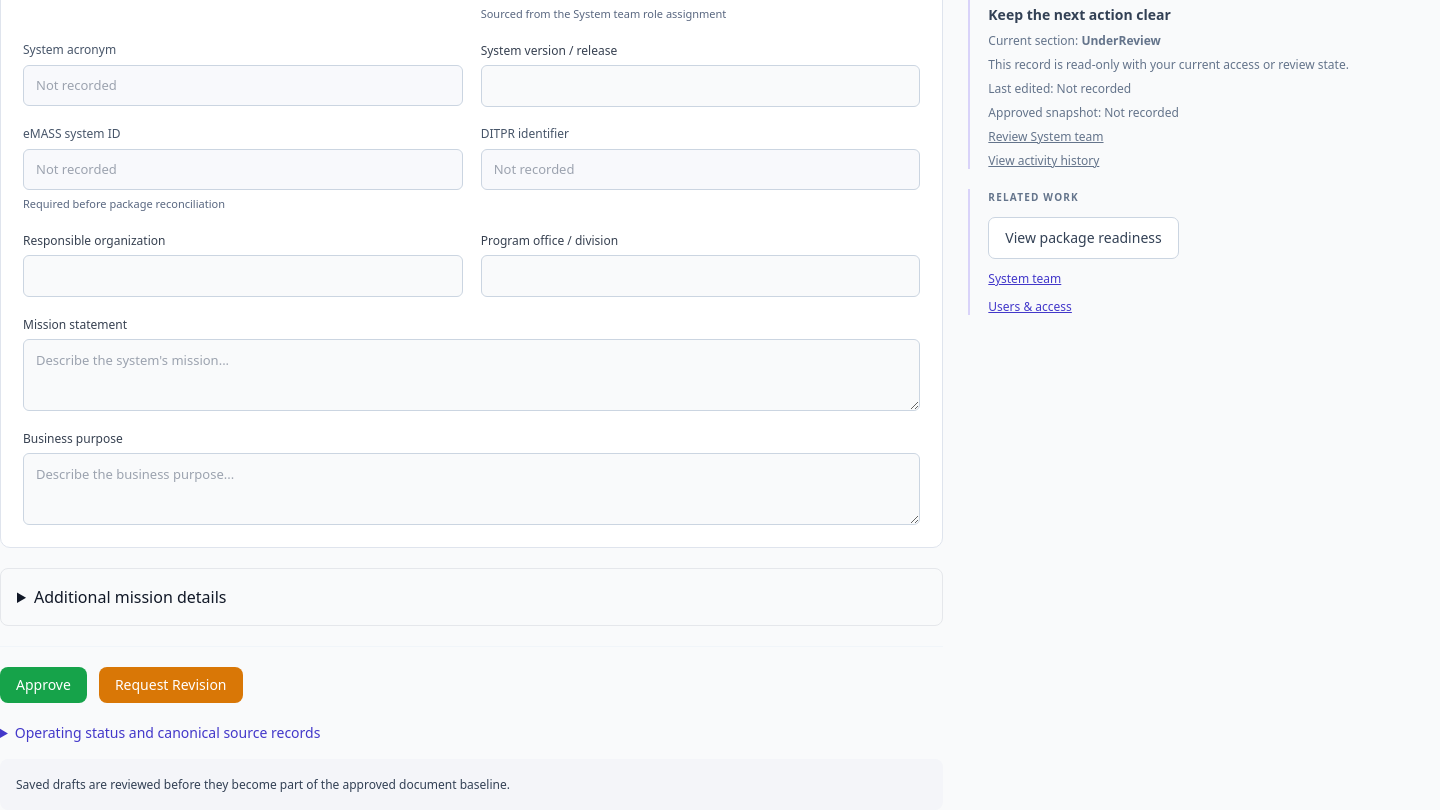
Test: server-authoritative profile editing (#968) › requests revision in a dialog and retains comments after a rejected write
The width and height of the screenshot is (1440, 810).
(page scrolled)
Click the button "Request Revision": (171, 684) [99,666,243,702]
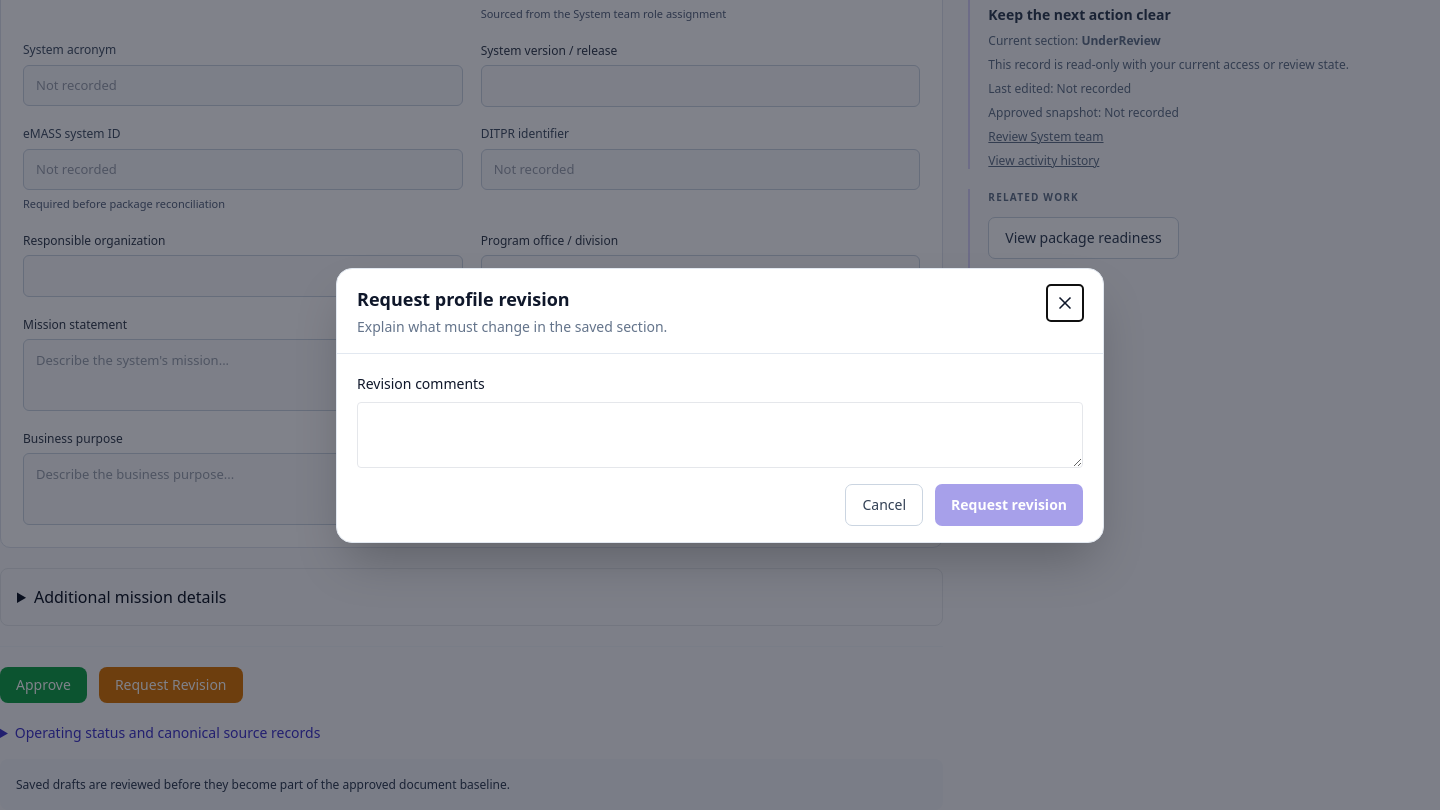
In the text box labelled "Revision comments": (720, 434) [357,402,1083,468], type "Clarify mission dependencies."
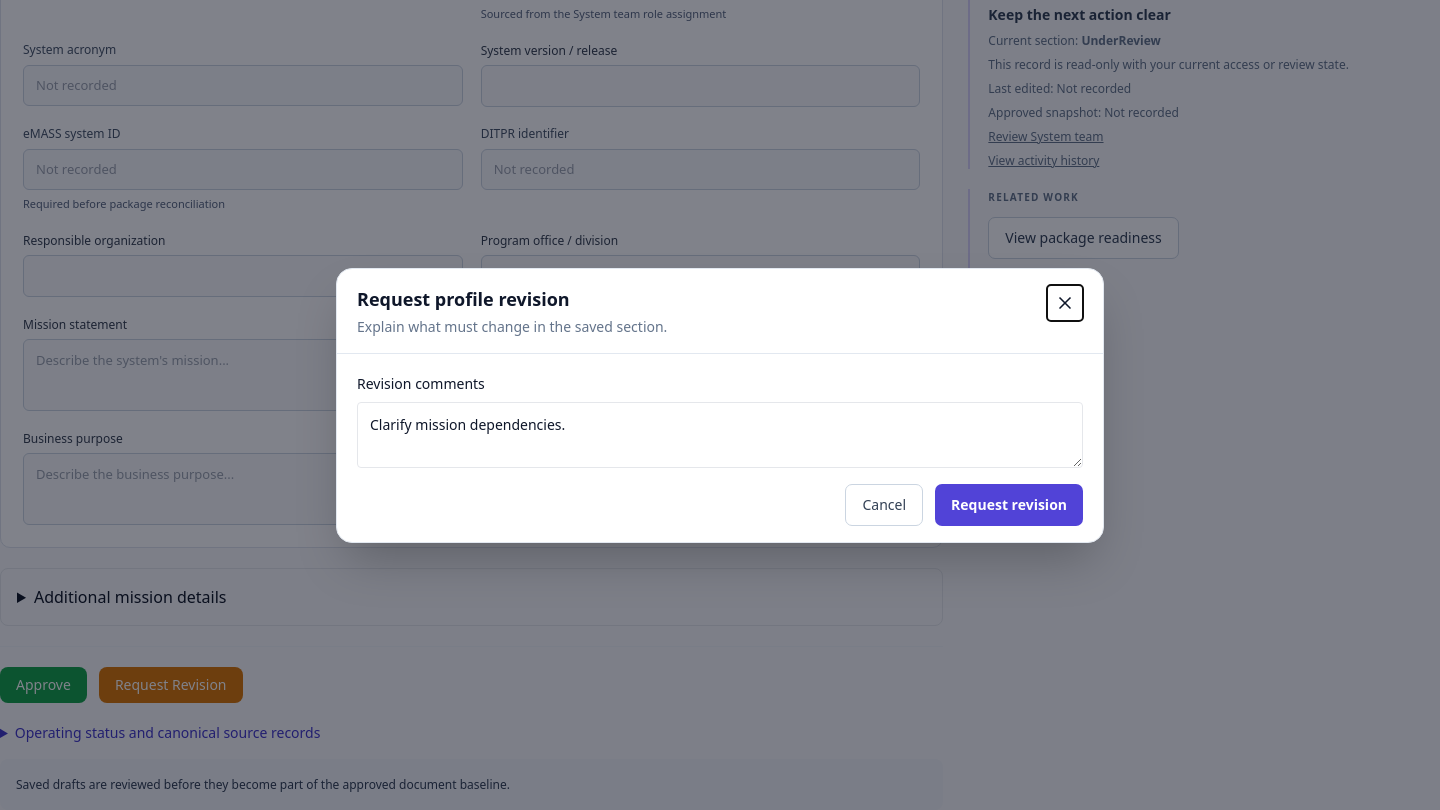
Click the button "Request revision": (1009, 504) [935,484,1083,526]
(page scrolled)
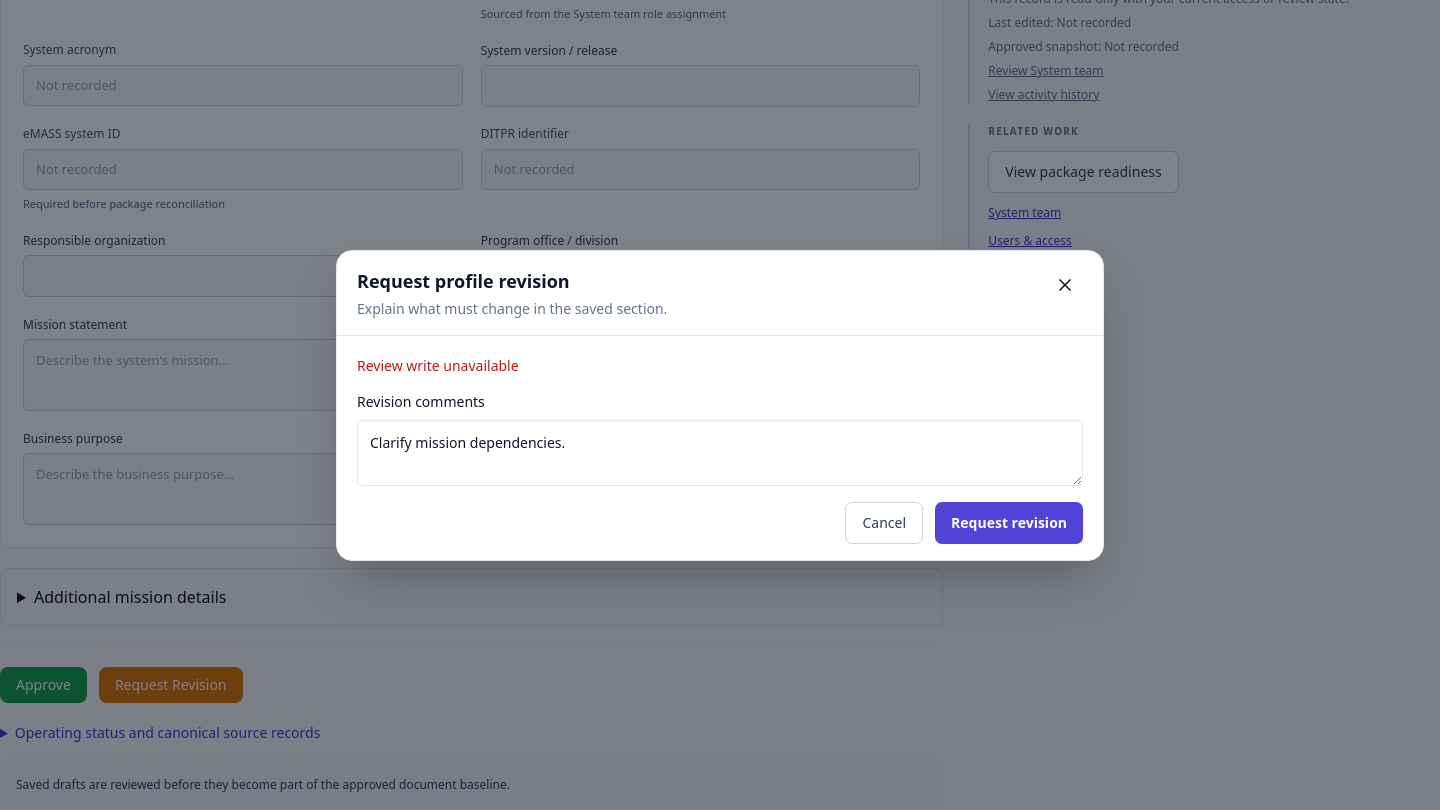
Result: the message reads "Review write unavailable" at [357,356,519,374]
